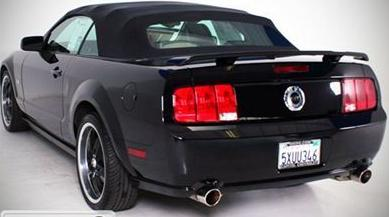back_view: (158, 61, 387, 186)
backlight: (159, 71, 256, 141)
side_glass: (35, 15, 116, 59)
